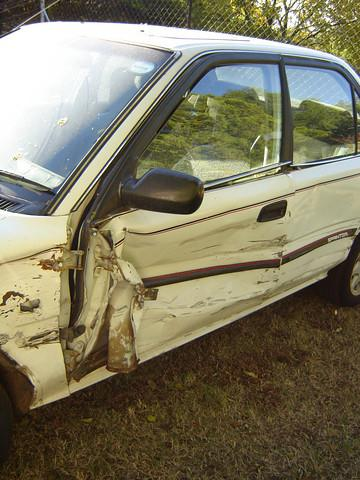doorouter-dent: (86, 186, 277, 362)
